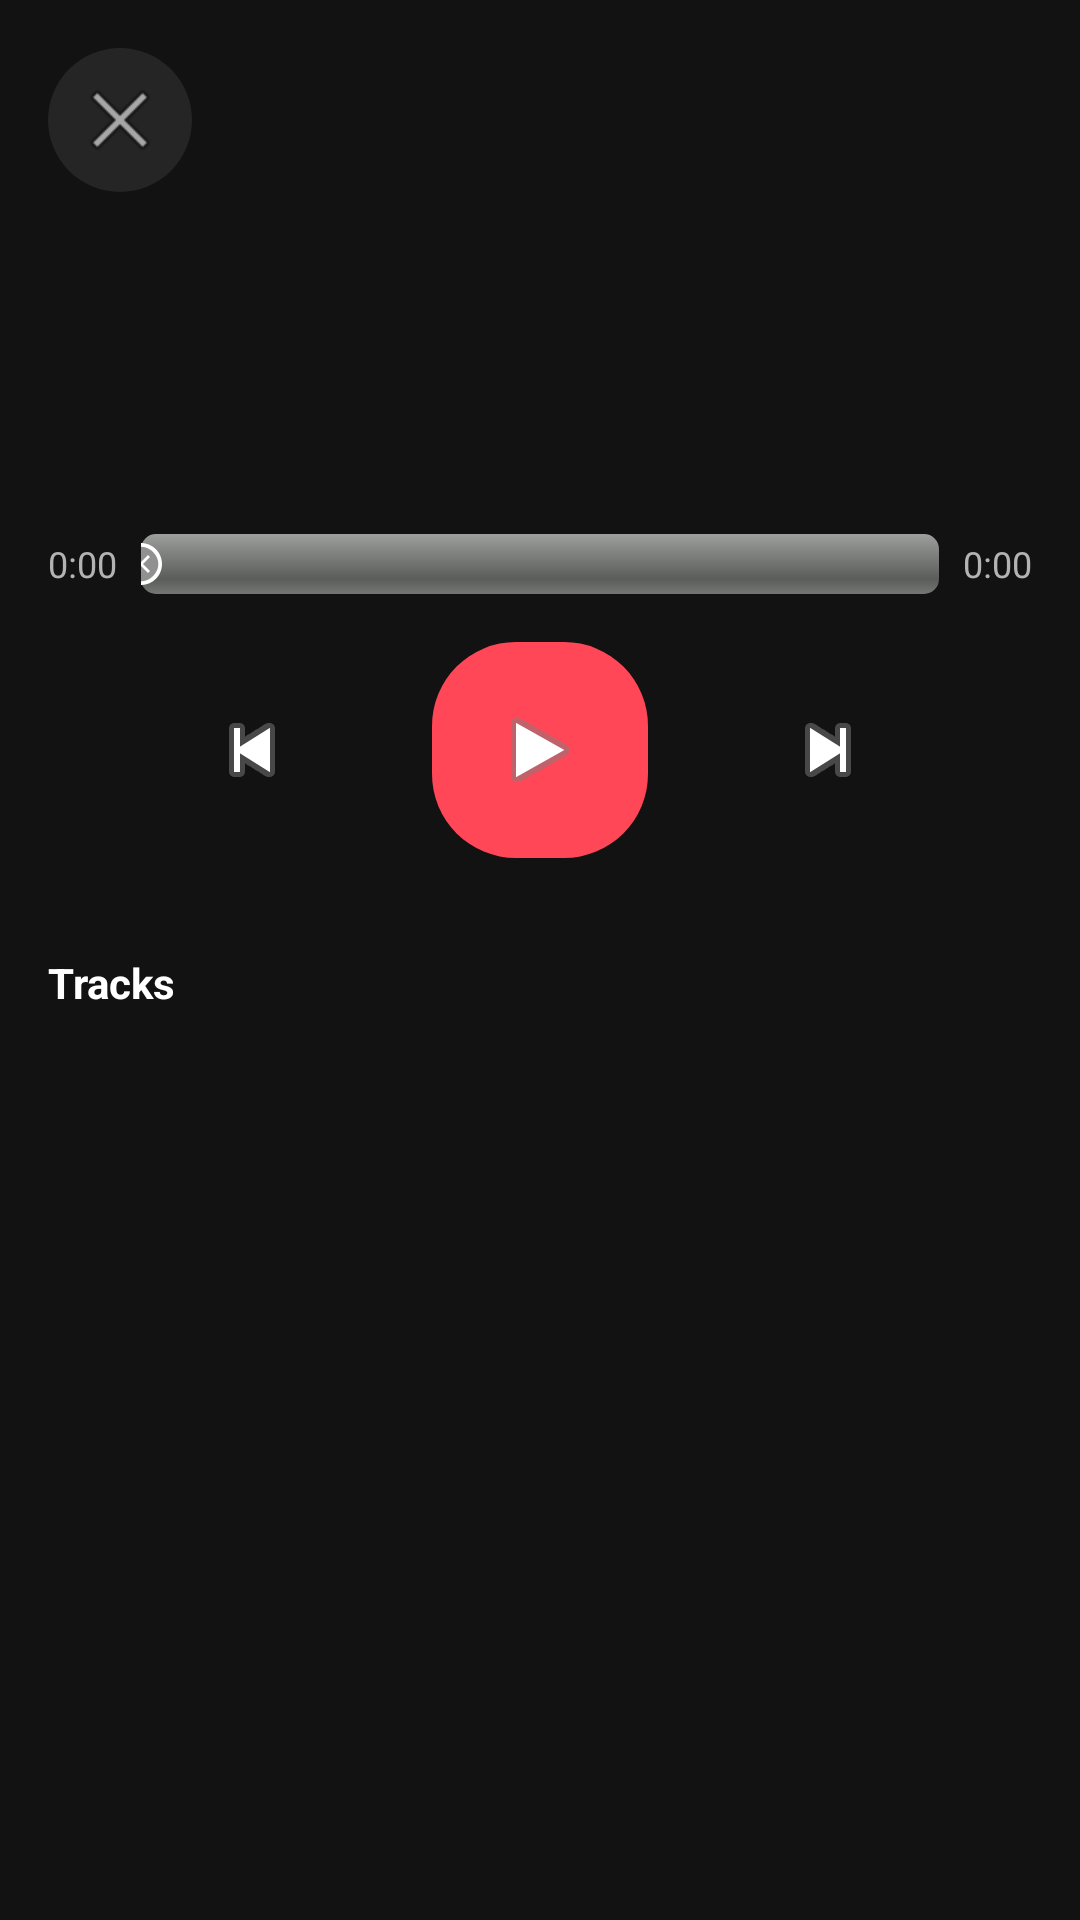

Named icons in this screenshot (1080px x 1920px) and their bounding boxes, bbox=(x1, y1, x2, y2):
close clear cancel: bbox=(48, 48, 192, 192)
next: bbox=(805, 723, 851, 777)
play: bbox=(432, 642, 648, 858)
previous: bbox=(229, 723, 275, 777)
